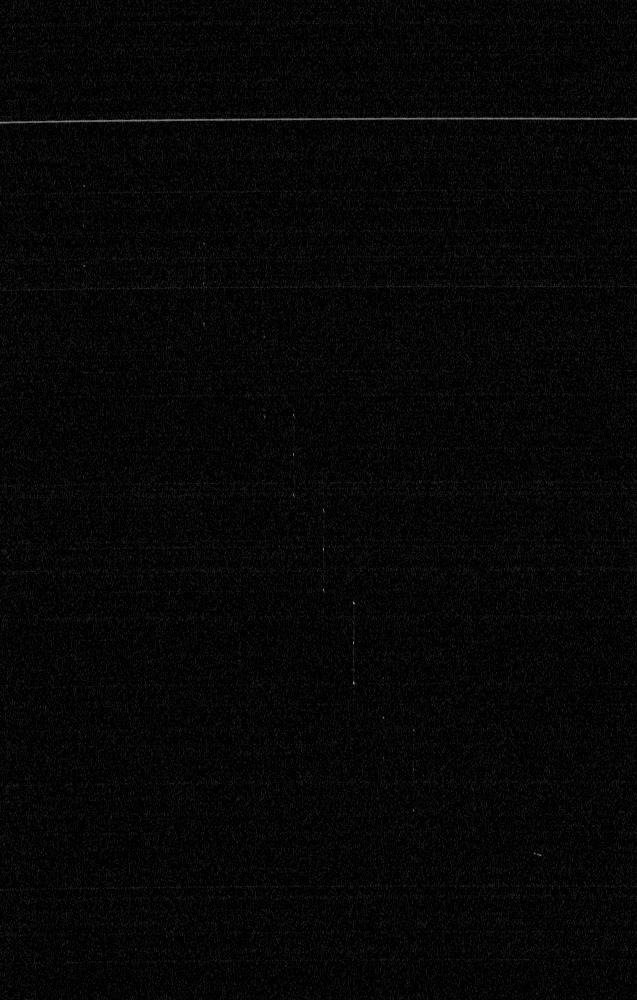signal: (0, 0, 636, 999)
